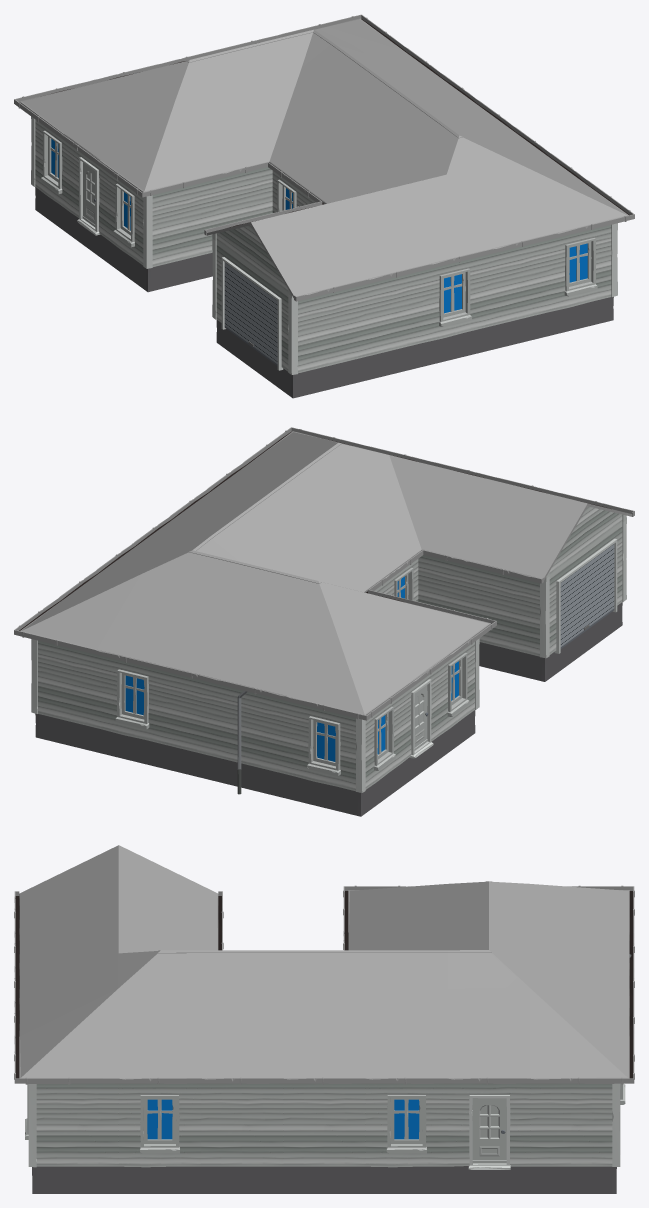
File: SM_Bld_House_Preset_08.fbx
3 renders of one model, top to bottom at view 1: azimuth 30°, elevation 25°; view 2: azimuth 150°, elevation 25°; view 3: azimuth 270°, elevation 25°, orthographic. The views are drawn at different scales.
Parts seen in each view (by area): view 1: SM_Bld_House_Preset_08; view 2: SM_Bld_House_Preset_08; view 3: SM_Bld_House_Preset_08.
Boxes of the visible parts, bbox=[...] form: SM_Bld_House_Preset_08: bbox=[14, 14, 634, 398]; SM_Bld_House_Preset_08: bbox=[14, 427, 634, 816]; SM_Bld_House_Preset_08: bbox=[14, 845, 634, 1193].
Bounding box in the file's own units: 1387 × 641 × 1887.
